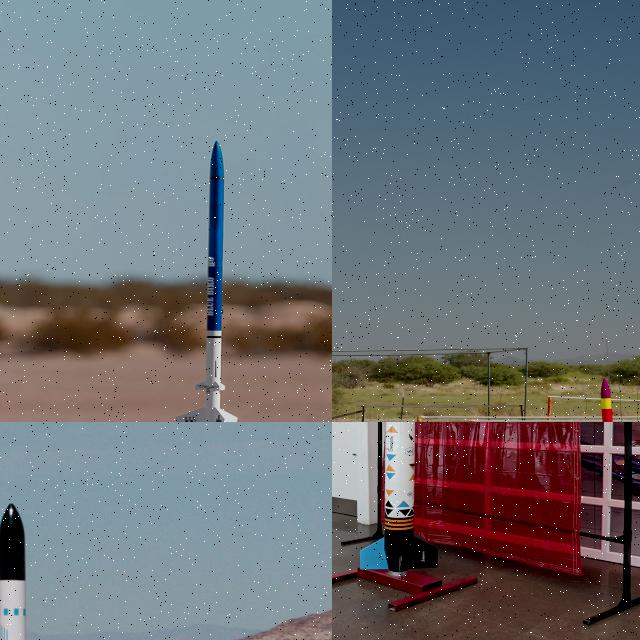Rocket: (173, 138, 241, 422), (360, 422, 438, 572), (0, 501, 47, 640), (595, 376, 621, 422)
